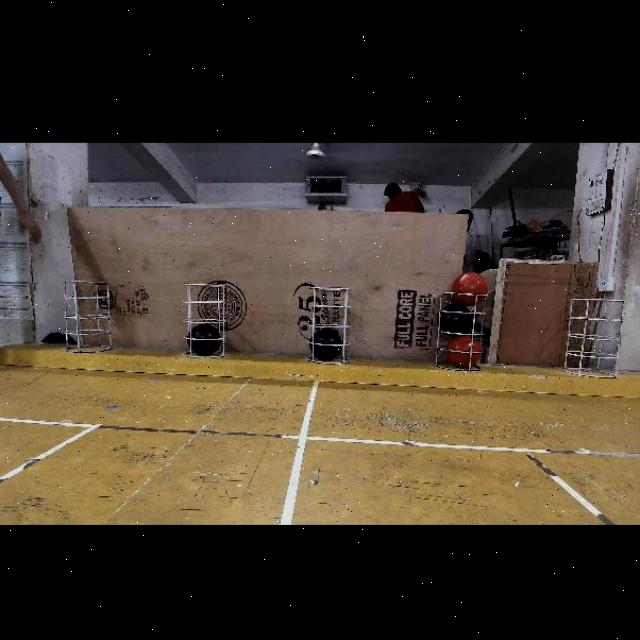P: (186, 324, 222, 356), (439, 304, 471, 334), (311, 330, 341, 360)
R: (447, 336, 483, 370), (452, 272, 488, 306)
S: (562, 296, 626, 380), (436, 290, 496, 372), (56, 277, 116, 351), (182, 280, 228, 370), (306, 279, 350, 369)
